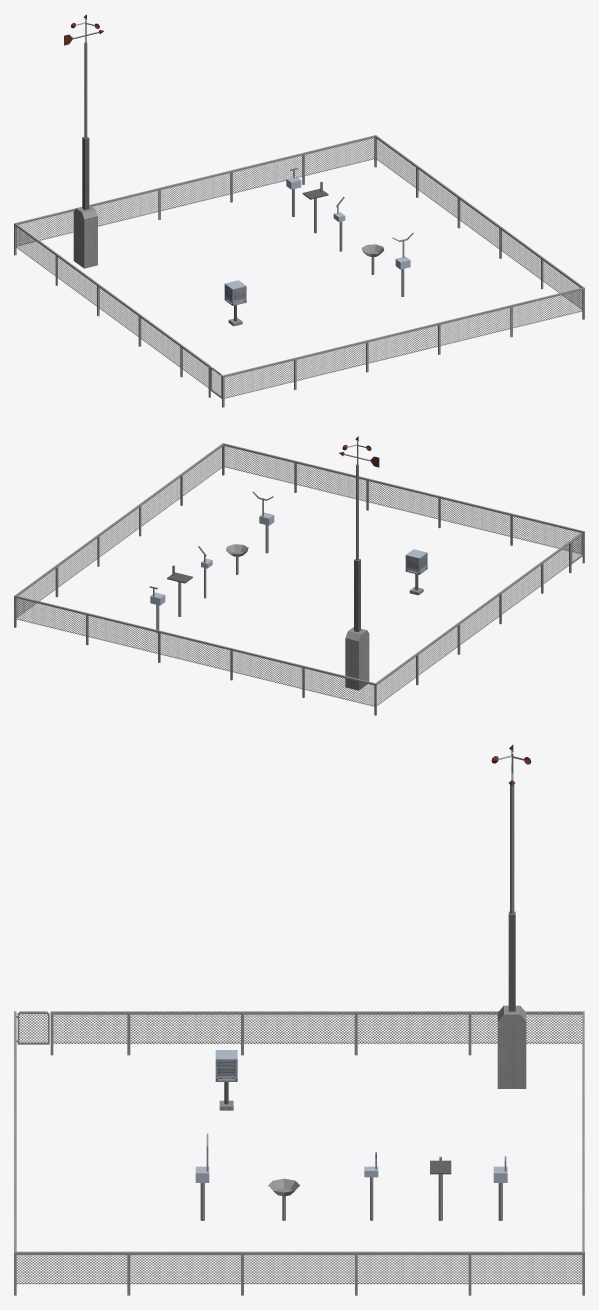
File: weather-station-cbj_LOD00.gltf
3 views of the same model, one above another, from view 1: azimuth 30°, elevation 25°; view 2: azimuth 150°, elevation 25°; view 3: azimuth 270°, elevation 25° (orthographic). The views are drawn at different scales.
Visible parts, largest first — view 1: gate; view 2: gate; view 3: gate.
Part boxes in pixels (<box>): gate: <box>14,14,584,407</box>; gate: <box>14,436,584,715</box>; gate: <box>14,745,584,1295</box>.
Size of the model in its own units: 16 by 10.27 by 16.
